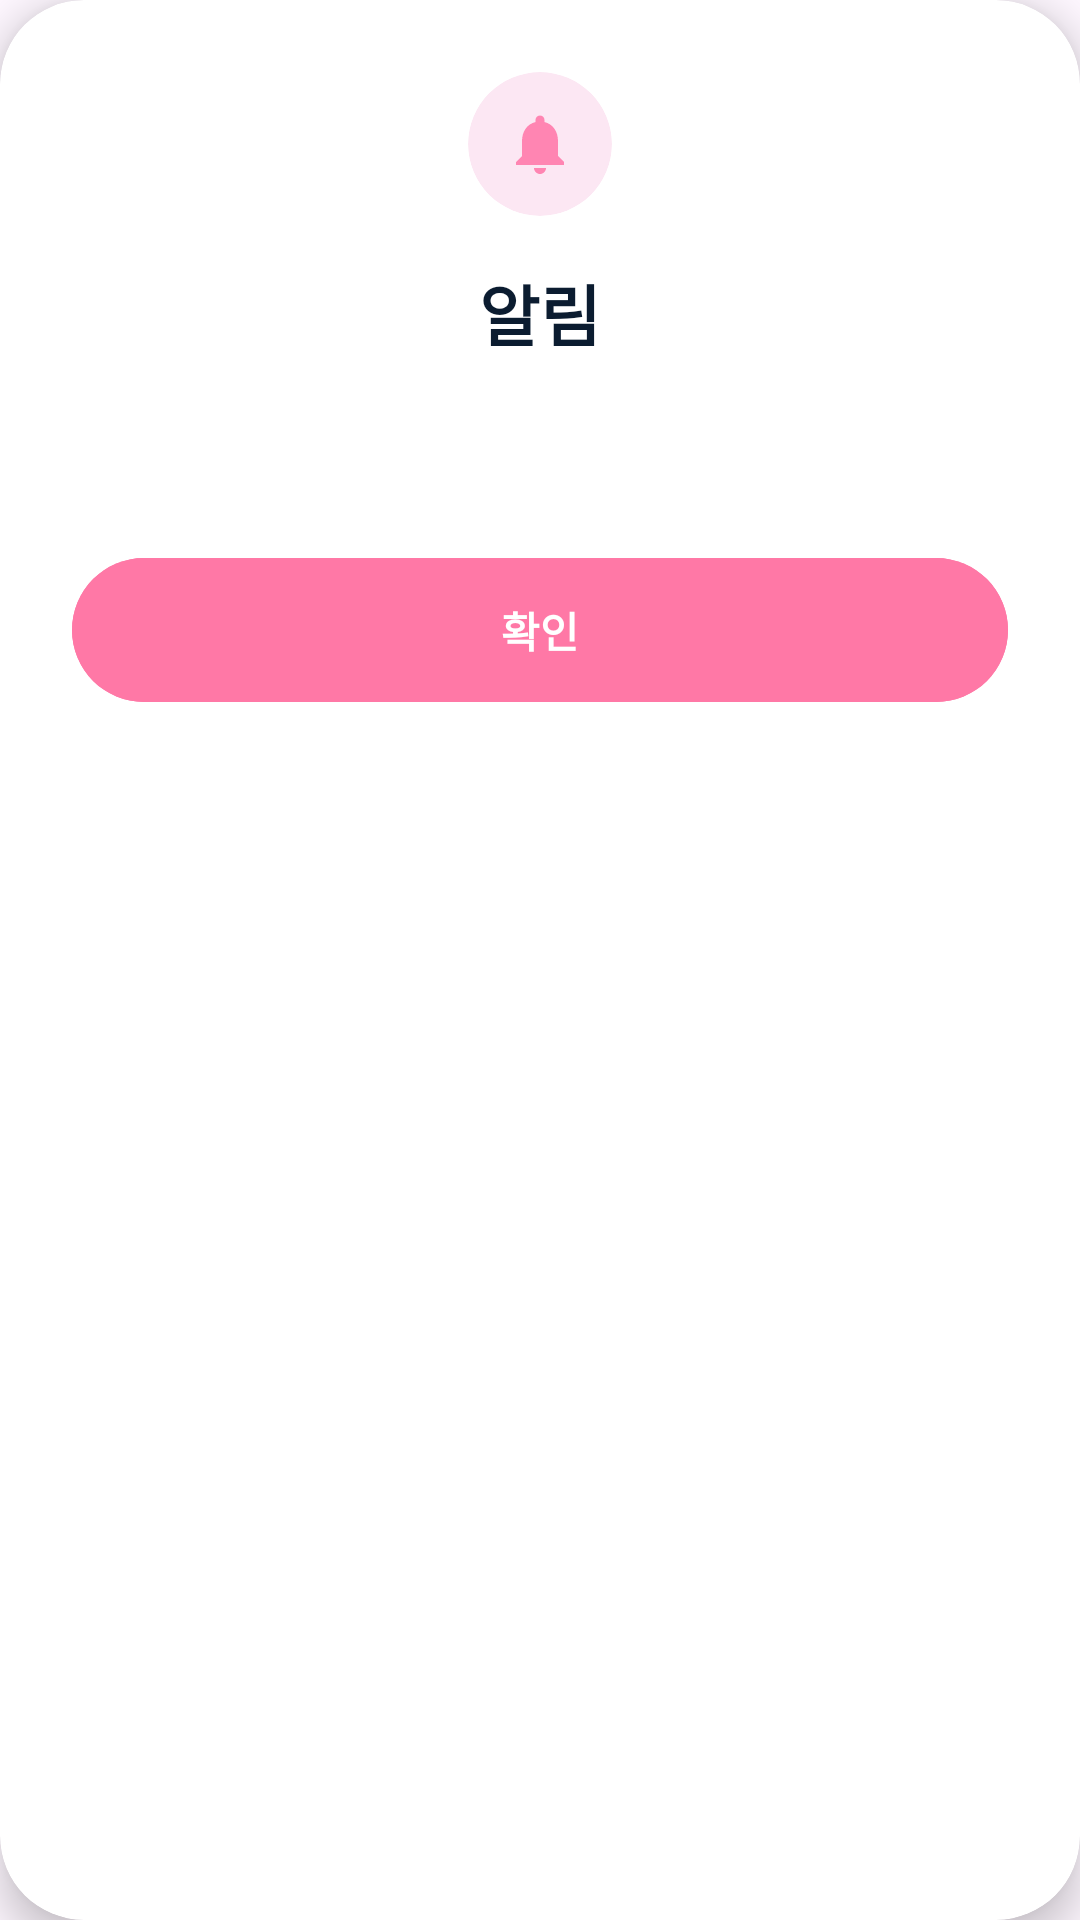

Where to tap for icons on this 1080px x 1920px app screen, as [x,y]:
notifications: [540,144]
